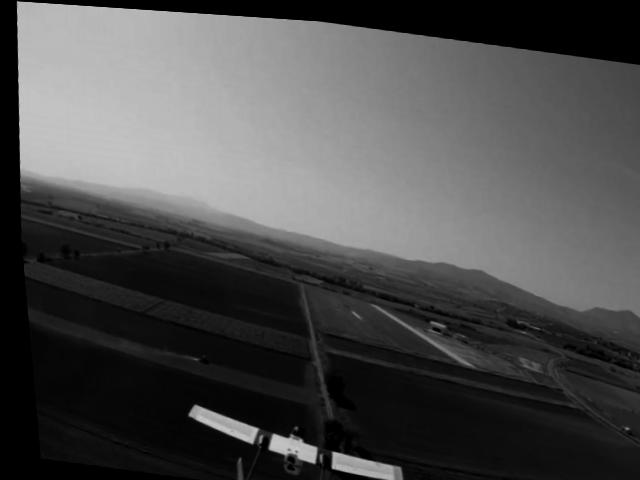hedef: (167, 377, 405, 480)
